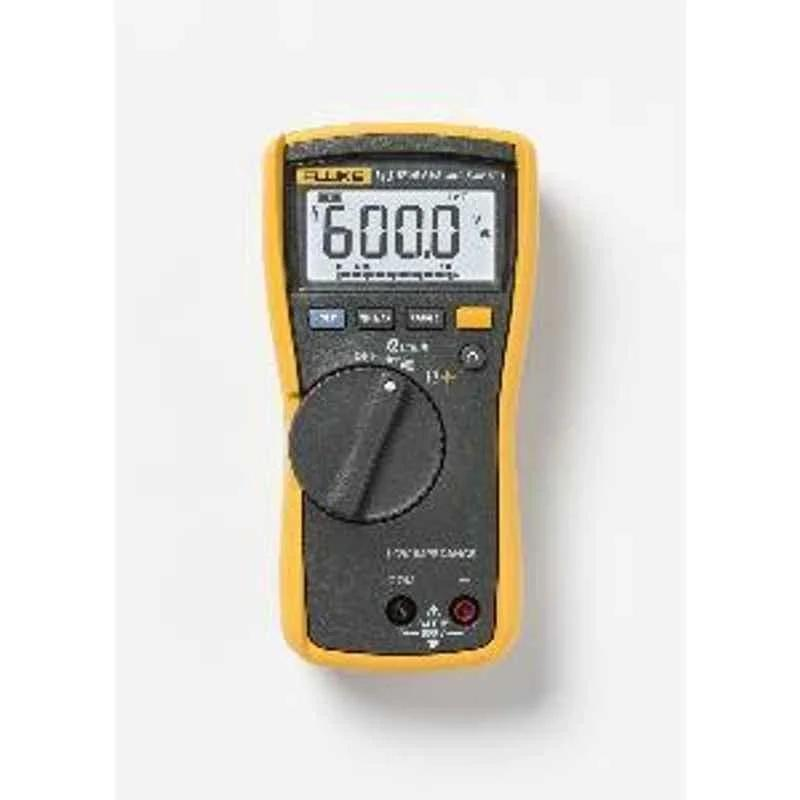multimeter: (248, 119, 554, 682)
